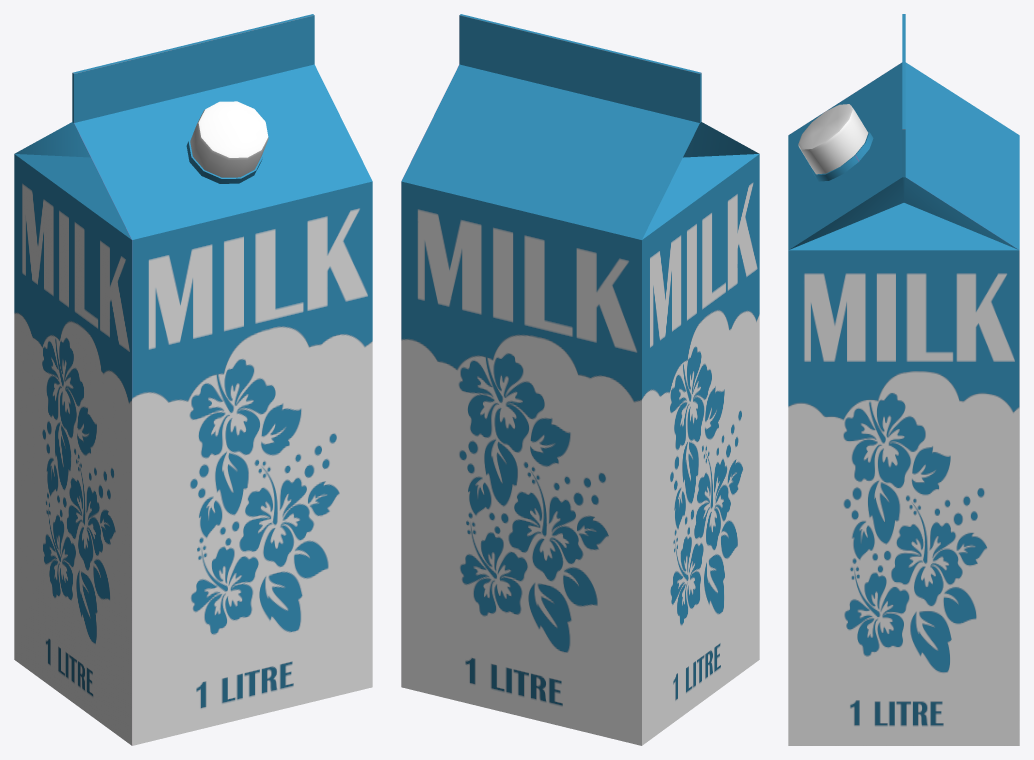
The model's file is milk_box_4.FBX.
3 renders of one model, left to right at view 1: azimuth 30°, elevation 25°; view 2: azimuth 150°, elevation 25°; view 3: azimuth 270°, elevation 25°, orthographic. The views are drawn at different scales.
Visible parts, largest first — view 1: milk_box_4; view 2: milk_box_4; view 3: milk_box_4.
Part boxes in pixels (x1,y1,x2,y2): milk_box_4: (14, 14, 372, 745); milk_box_4: (401, 14, 759, 745); milk_box_4: (788, 14, 1019, 745).
Bounding box in the file's own units: 3.15 × 2.67 × 7.87.
